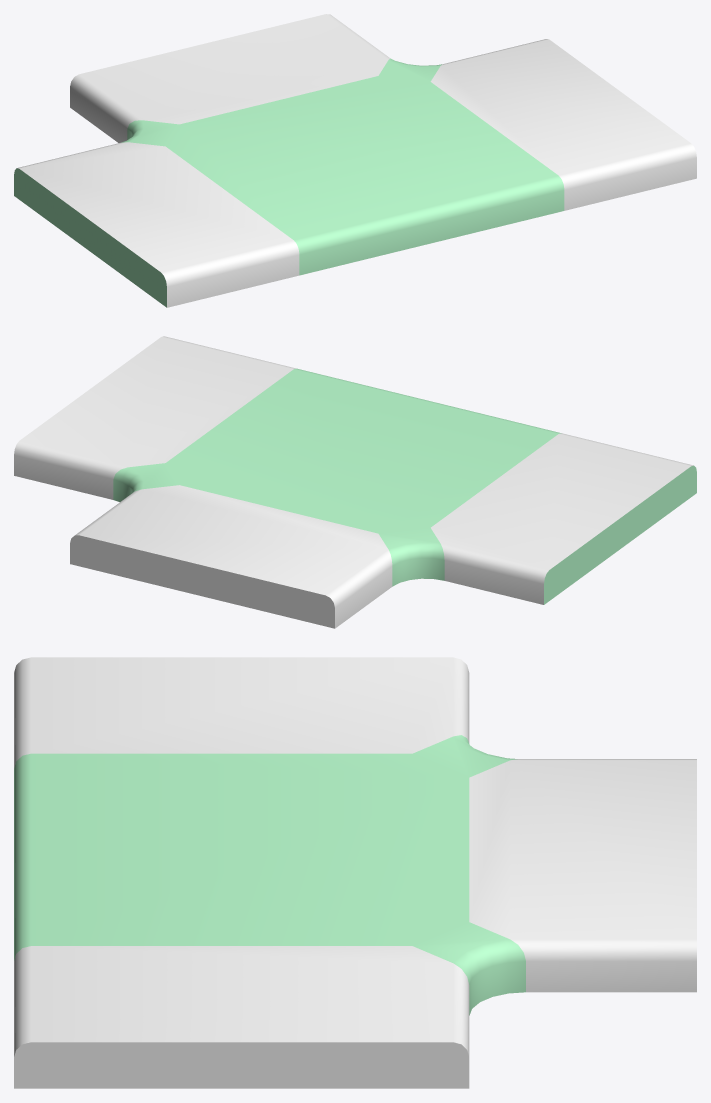
The model's file is IntersectionSmall_green.fbx.
3 renders of one model, top to bottom at view 1: azimuth 30°, elevation 25°; view 2: azimuth 150°, elevation 25°; view 3: azimuth 270°, elevation 25°, orthographic. The views are drawn at different scales.
Visible parts, largest first — view 1: IntersectionSmall_green; view 2: IntersectionSmall_green; view 3: IntersectionSmall_green.
Boxes of the visible parts, bbox=[...] form: IntersectionSmall_green: bbox=[14, 14, 696, 307]; IntersectionSmall_green: bbox=[14, 336, 696, 628]; IntersectionSmall_green: bbox=[14, 657, 696, 1088].
Size of the model in its own units: 600 by 33.61 by 450.
1 material, 1 textured.
